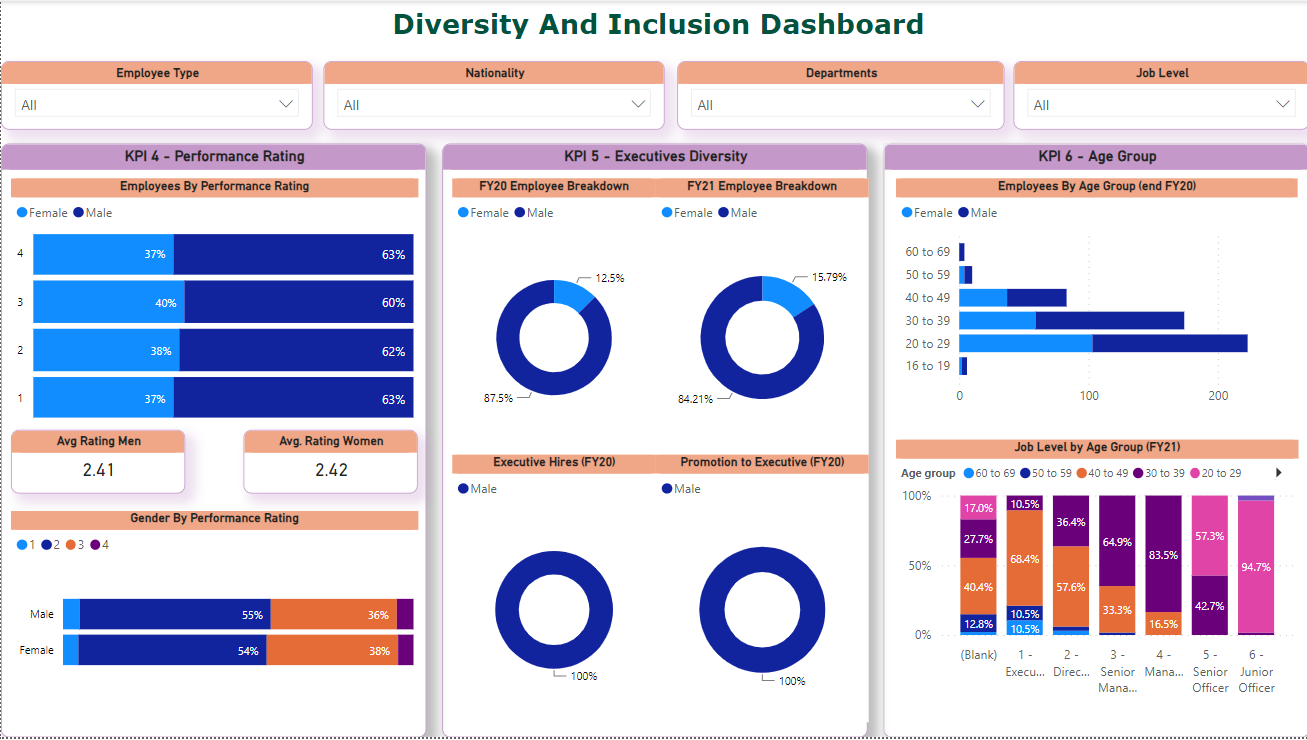

The dashboard page shown, as its layout file describes it:
{"tool":"powerbi","page":{"name":"Page 2","canvas":[1280,720],"ordinal":1},"visuals":[{"type":"textbox","title":"KPI 6 - Age Group","box":[862.8,139.1,417.2,580.9],"z":0},{"type":"textbox","title":"KPI 5 - Executives Diversity","box":[431.9,139.2,416.3,580.6],"z":1},{"type":"textbox","title":"KPI 4 - Performance Rating","box":[0,139.2,416.3,580.6],"z":2},{"type":"barChart","title":"Employees By Age Group (end FY20)","fields":{"Series":["Pharma Group AG.Gender"],"Category":["Pharma Group AG.Age group"],"Y":["CountNonNull(Pharma Group AG.Employee ID)"]},"box":[875.6,173.7,393,230.7],"z":3},{"type":"hundredPercentStackedBarChart","title":"Employees By Performance Rating","fields":{"Series":["Pharma Group AG.Gender"],"Y":["CountNonNull(Pharma Group AG.Employee ID)"],"Category":["Pharma Group AG.FY20 Performance Rating"]},"box":[9.6,173.9,398.3,245.9],"z":4},{"type":"card","title":"Avg Rating Men","fields":{"Values":["Backing 1.avgMenPerformanceRating"]},"box":[9.6,419.9,170.3,62.4],"z":5},{"type":"card","title":"Avg. Rating Women","fields":{"Values":["Backing 1.avgWomenPerformanceRating"]},"box":[237.5,419.9,170.3,62.4],"z":6},{"type":"hundredPercentStackedBarChart","title":"Gender By Performance Rating","fields":{"Category":["Pharma Group AG.Gender"],"Series":["Pharma Group AG.FY20 Performance Rating"],"Y":["CountNonNull(Pharma Group AG.Employee ID)"]},"box":[9.6,499,398.3,188.3],"z":7},{"type":"donutChart","title":"FY20 Employee Breakdown","fields":{"Series":["Pharma Group AG.Gender"],"Y":["CountNonNull(Pharma Group AG.Employee ID)"]},"box":[441.3,173.6,199.3,270.2],"z":8},{"type":"donutChart","title":"FY21 Employee Breakdown","fields":{"Series":["Pharma Group AG.Gender"],"Y":["CountNonNull(Pharma Group AG.Employee ID)"]},"box":[640.5,173.6,207.8,270.2],"z":9},{"type":"donutChart","title":"Executive Hires (FY20)","fields":{"Series":["Pharma Group AG.Gender"],"Y":["CountNonNull(Pharma Group AG.Employee ID)"]},"box":[441.3,443.7,199.3,261.6],"z":10},{"type":"donutChart","title":"Promotion to Executive (FY20)","fields":{"Series":["Pharma Group AG.Gender"],"Y":["CountNonNull(Pharma Group AG.Employee ID)"]},"box":[640.5,443.7,207.8,261.6],"z":11},{"type":"hundredPercentStackedColumnChart","title":"Job Level by Age Group (FY21)","fields":{"Y":["CountNonNull(Pharma Group AG.Employee ID)"],"Series":["Pharma Group AG.Age group"],"Category":["Pharma Group AG.Job Level after FY21 promotions"]},"box":[875.7,429.5,393.5,257.9],"z":12},{"type":"slicer","title":"Employee Type","fields":{"Values":["Pharma Group AG.Time type","Pharma Group AG.FTE group"]},"box":[0,58.2,304.9,67.5],"z":13},{"type":"slicer","title":"Nationality","fields":{"Values":["Pharma Group AG.Nationality 1"]},"box":[315.3,58.2,334,67.5],"z":14},{"type":"slicer","title":"Departments","fields":{"Values":["Pharma Group AG.Department @01.07.2020"]},"box":[660.9,58.2,320,67.5],"z":15},{"type":"slicer","title":"Job Level","fields":{"Values":["Pharma Group AG.Job Level after FY20 promotions"]},"box":[990.3,58.2,289.7,67.5],"z":16},{"type":"textbox","box":[315.4,0,655.2,47.7],"z":17}]}

Visuals, with their boxes in screenshot pixels (x1, y1, x2, y2), scaled from the page's 1280x720 canvas onto the 1307x740 screenshot:
"KPI 6 - Age Group" textbox: pyautogui.locateOnScreen(881, 143, 1306, 739)
"KPI 5 - Executives Diversity" textbox: pyautogui.locateOnScreen(441, 143, 866, 739)
"KPI 4 - Performance Rating" textbox: pyautogui.locateOnScreen(0, 143, 425, 739)
"Employees By Age Group (end FY20)" barChart: pyautogui.locateOnScreen(894, 179, 1295, 416)
"Employees By Performance Rating" hundredPercentStackedBarChart: pyautogui.locateOnScreen(10, 179, 417, 431)
"Avg Rating Men" card: pyautogui.locateOnScreen(10, 432, 184, 496)
"Avg. Rating Women" card: pyautogui.locateOnScreen(243, 432, 416, 496)
"Gender By Performance Rating" hundredPercentStackedBarChart: pyautogui.locateOnScreen(10, 513, 417, 706)
"FY20 Employee Breakdown" donutChart: pyautogui.locateOnScreen(451, 178, 654, 456)
"FY21 Employee Breakdown" donutChart: pyautogui.locateOnScreen(654, 178, 866, 456)
"Executive Hires (FY20)" donutChart: pyautogui.locateOnScreen(451, 456, 654, 725)
"Promotion to Executive (FY20)" donutChart: pyautogui.locateOnScreen(654, 456, 866, 725)
"Job Level by Age Group (FY21)" hundredPercentStackedColumnChart: pyautogui.locateOnScreen(894, 441, 1296, 706)
"Employee Type" slicer: pyautogui.locateOnScreen(0, 60, 311, 129)
"Nationality" slicer: pyautogui.locateOnScreen(322, 60, 663, 129)
"Departments" slicer: pyautogui.locateOnScreen(675, 60, 1002, 129)
"Job Level" slicer: pyautogui.locateOnScreen(1011, 60, 1306, 129)
textbox: pyautogui.locateOnScreen(322, 0, 991, 49)
